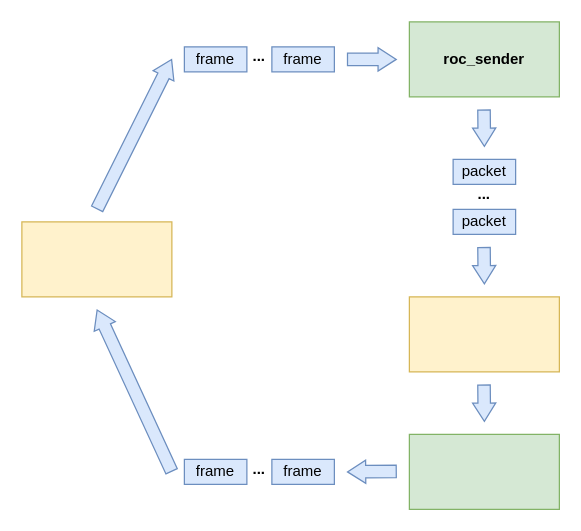
The diagram is 581 pixels wide and 531 high, and some of its shapes have lost their labels. Here are the shapes that lost their labels. From the top down, the box of each, then its label:
(21, 221, 172, 297): rt-tests
(408, 296, 559, 372): rt-tests udp proxy (optional)
(408, 433, 559, 509): roc_receiver
